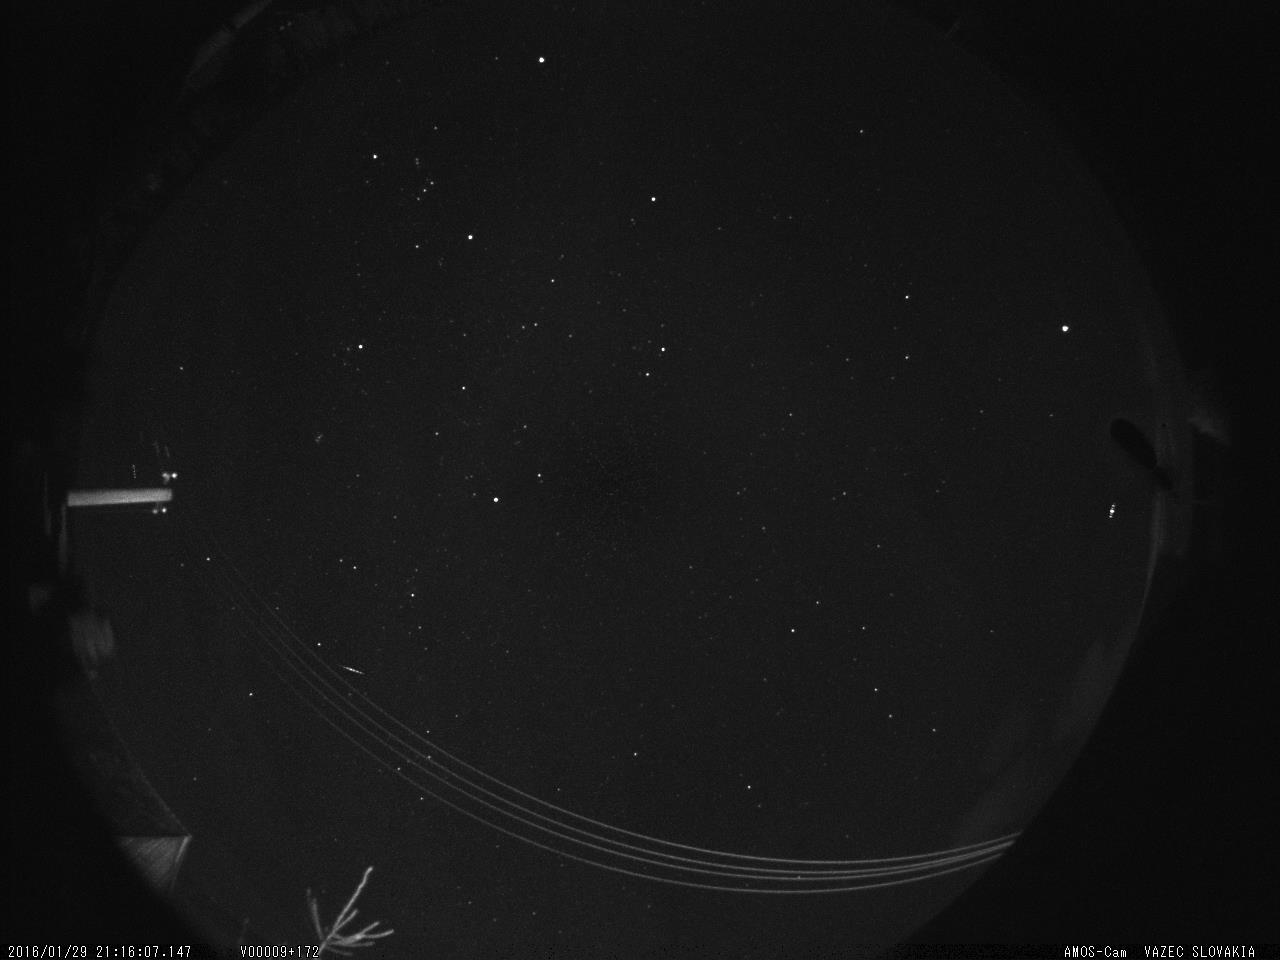meteor: (334, 658, 372, 678)
